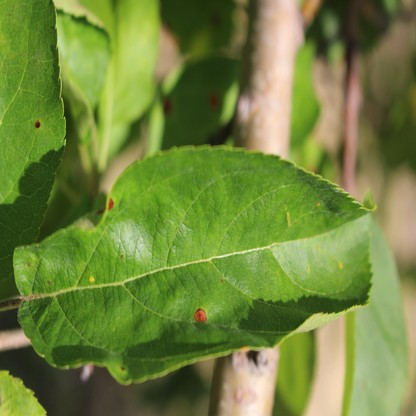rust: (194, 308, 207, 321), (286, 211, 291, 227), (108, 196, 113, 211), (338, 259, 343, 269), (89, 274, 94, 281), (316, 201, 321, 207)
